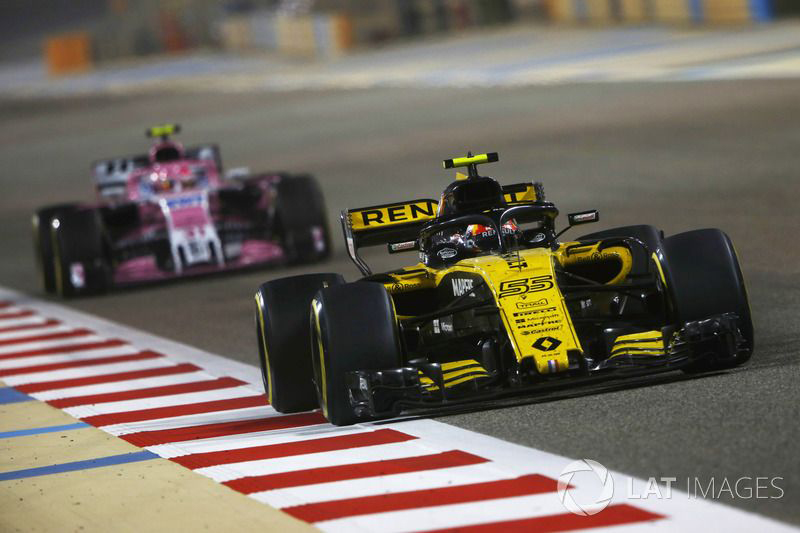F1 Car: (251, 150, 759, 429)
